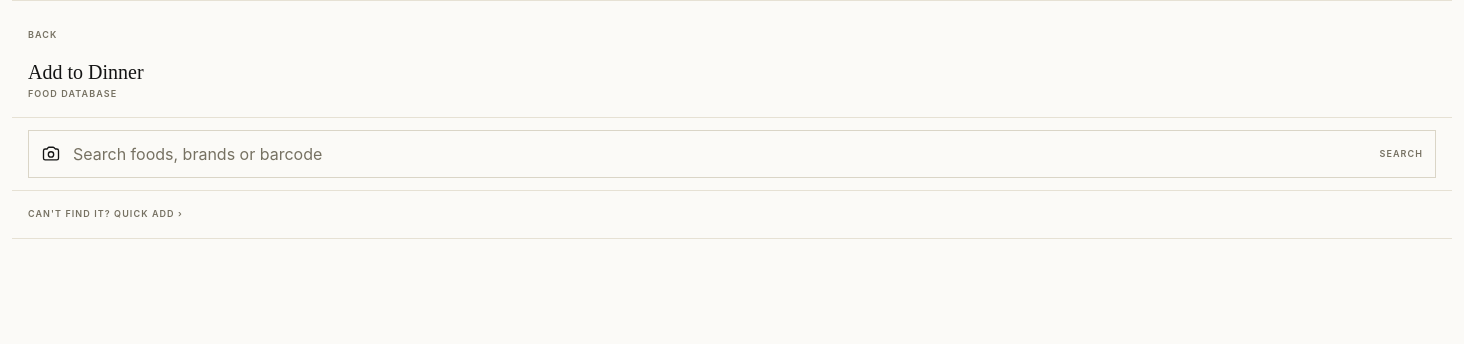
Test: FoodPicker › offers an explicit clear button for the search field
This screenshot has width=1464, height=344.
In the search field: (720, 154) [73,142,1368,166], type "skyr"
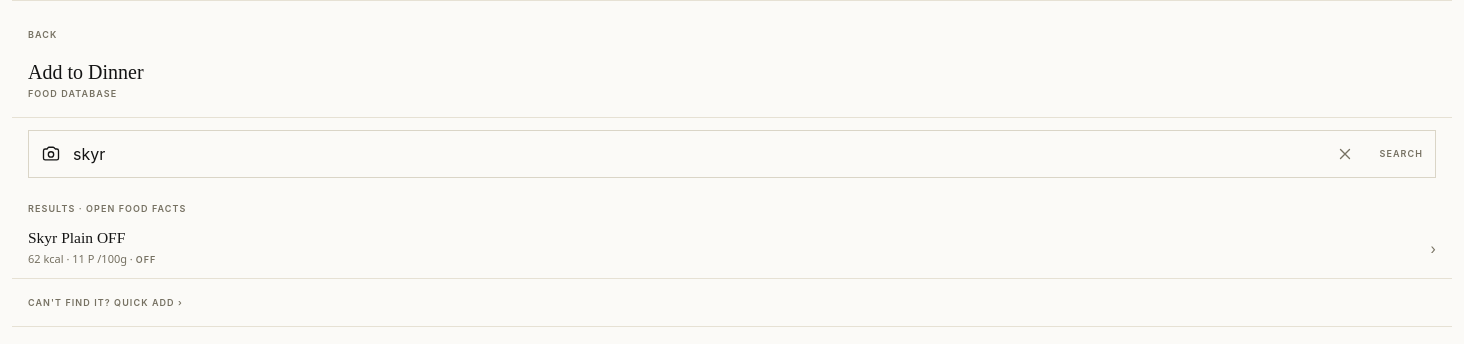
expect the text "Skyr Plain OFF" is shown: met, box [28,229,125,246]
Click the button named "clear search": (1346, 154) [1324,132,1368,176]
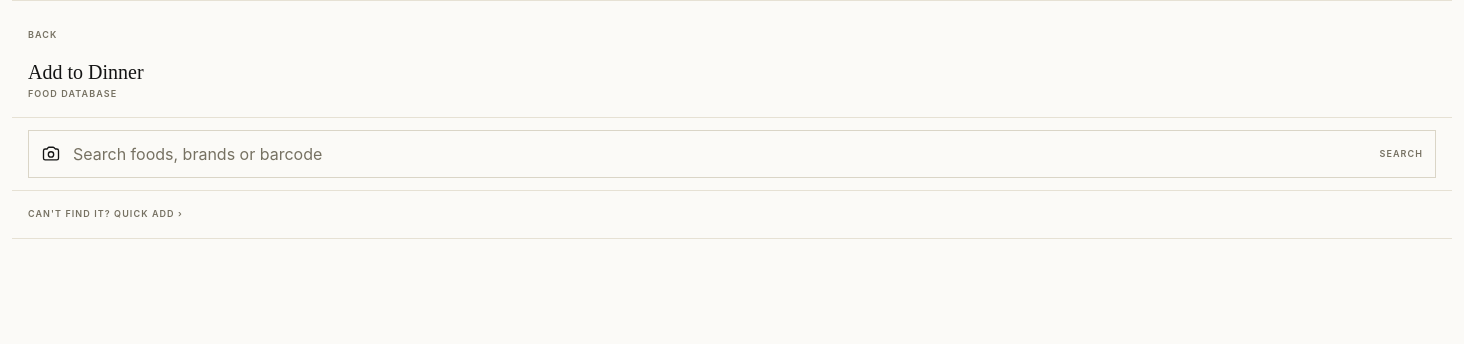
expect the search field is empty: met, box [73,142,1368,166]
expect the button "Skyr Plain OFF" is gone: met
